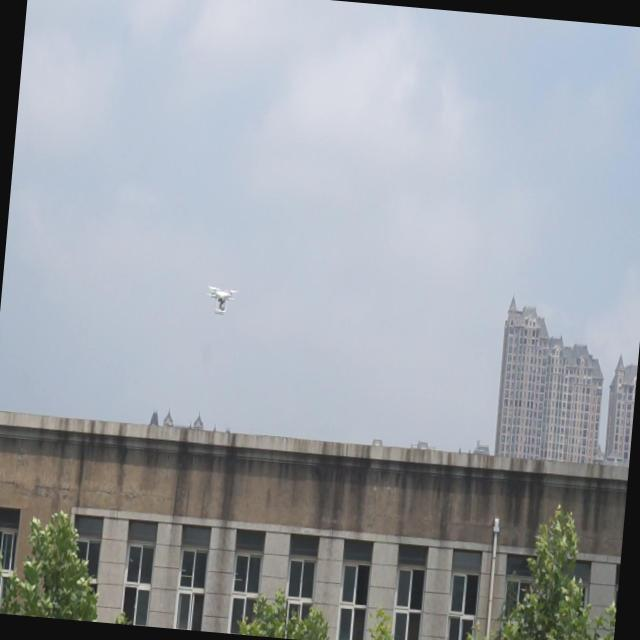drone: (206, 284, 240, 316)
